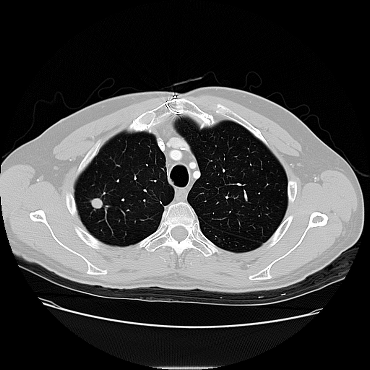nodule: (91, 197, 103, 209)
